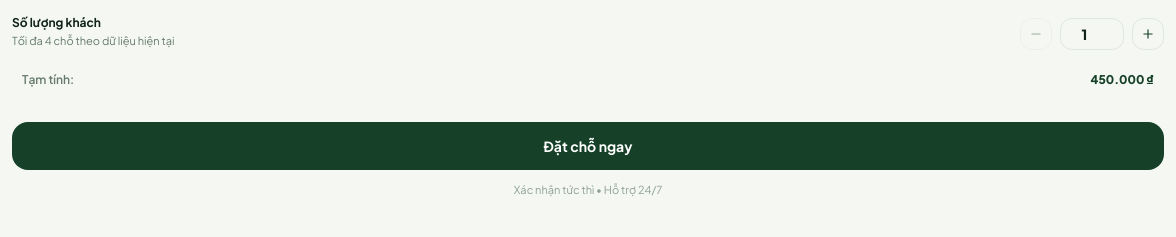
Test: BookingPanel › renders accessible validation for
The image size is (1176, 237).
Clear the number field labelled "Số lượng khách" at x=1092, y=34, box [1060,18,1124,50]
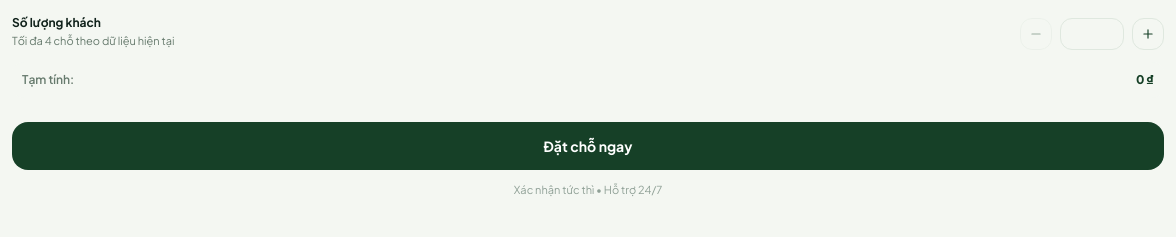
Click the button "Đặt chỗ ngay" at x=588, y=146, box [12,122,1164,170]
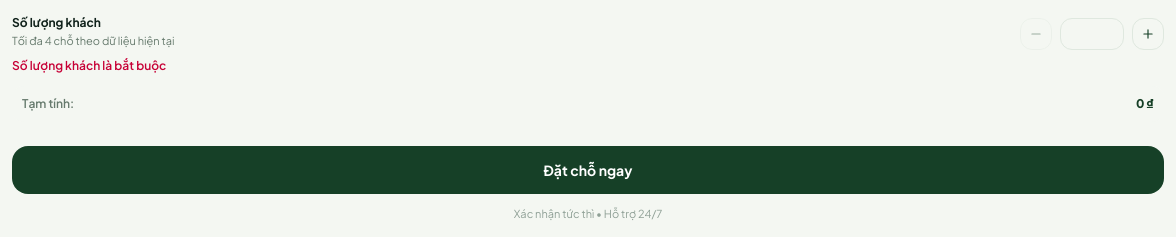
Check: the message reads "Số lượng khách là bắt buộc", box [12,58,166,72]
